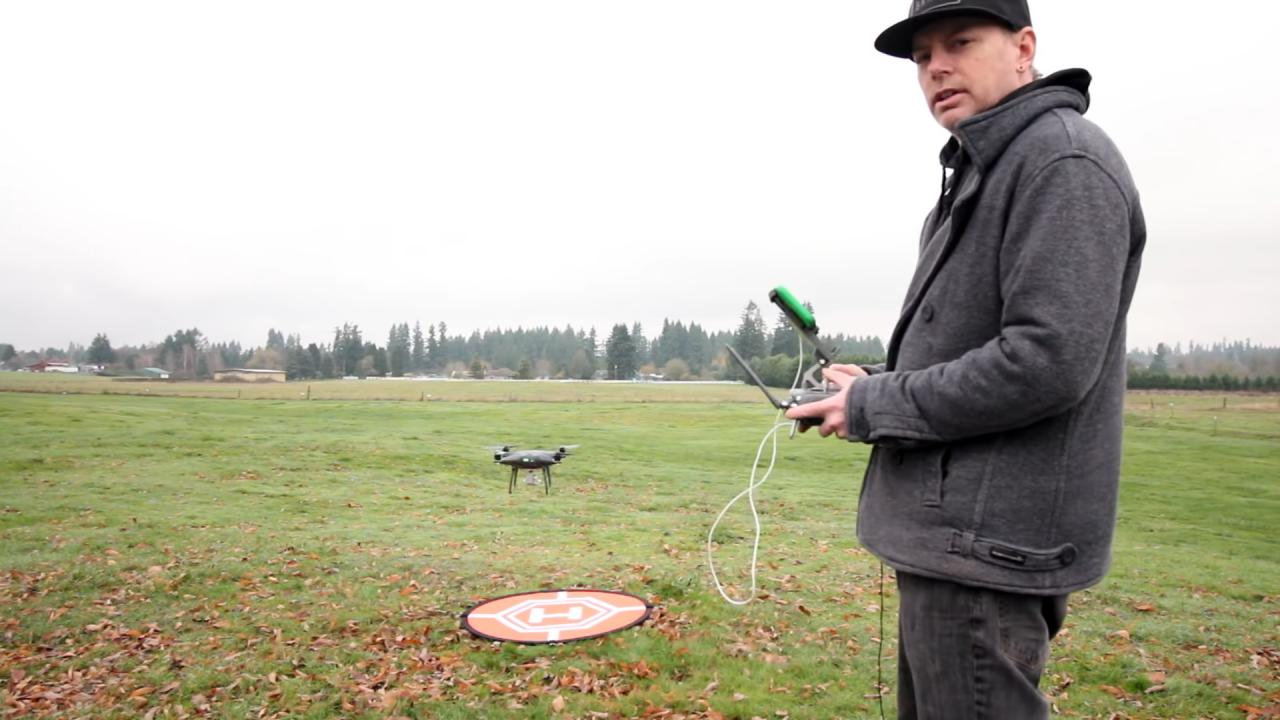Drone: (482, 434, 584, 506)
